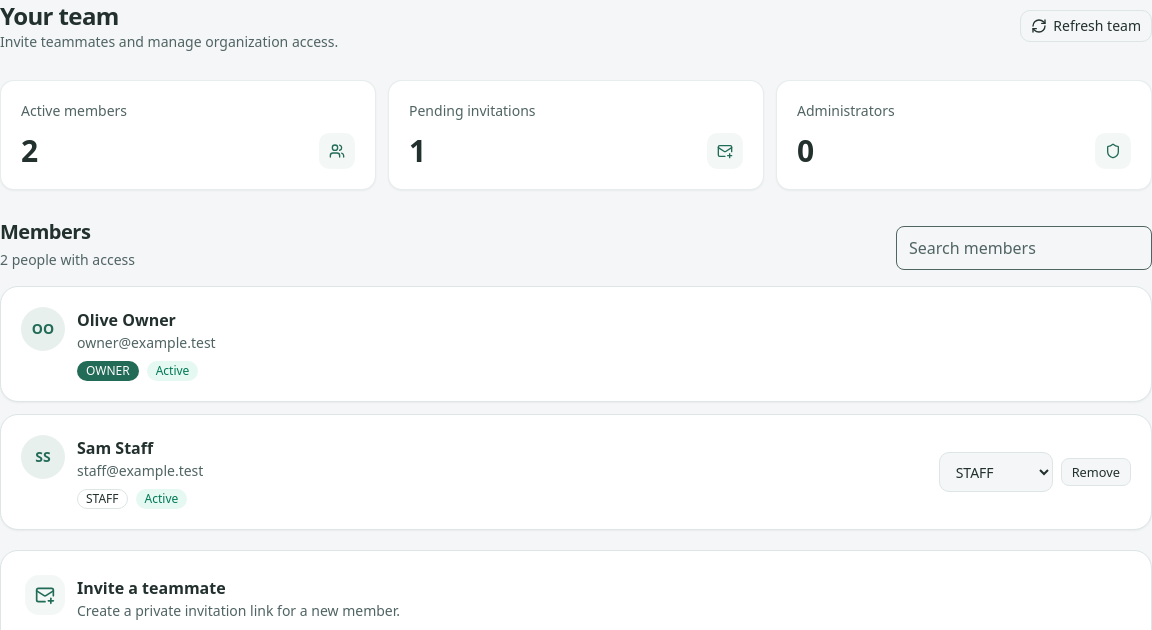
Test: filters members and updates a member role
Select "MANAGER" in the dropdown named "Role for staff@example.test" at (996, 472), box x1=939 y1=452 x2=1053 y2=492
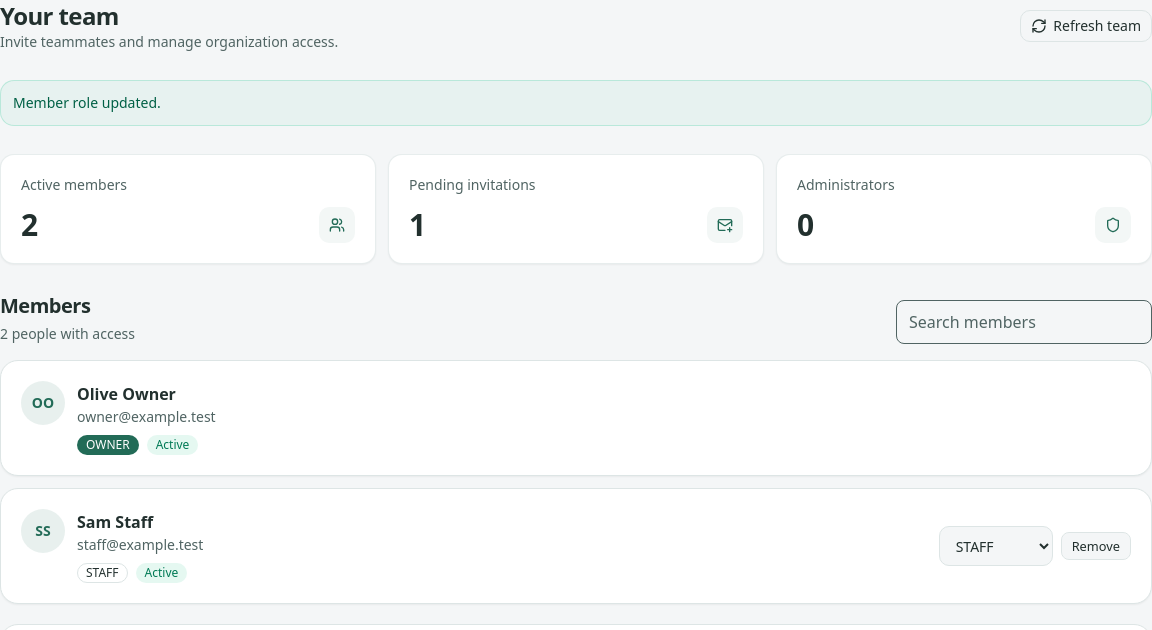
Type "Olive" into the search field named "Search team members" at (1024, 322), box x1=896 y1=300 x2=1151 y2=344
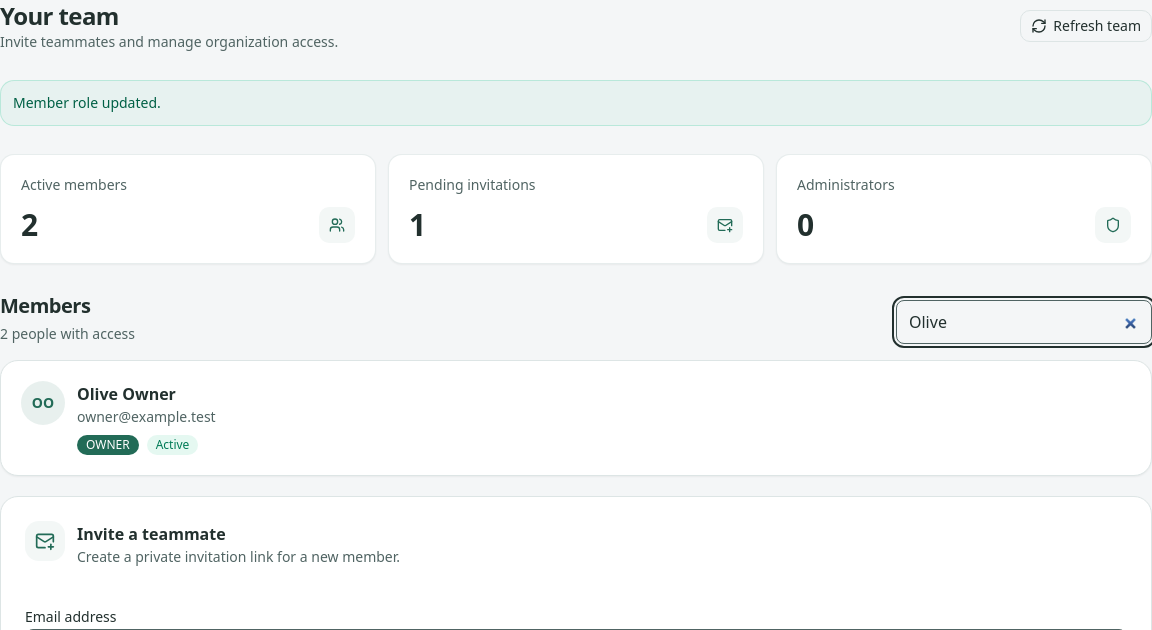
Check: the text "owner@example.test" is shown, box x1=77 y1=407 x2=216 y2=427
Check: the text "staff@example.test" is gone
